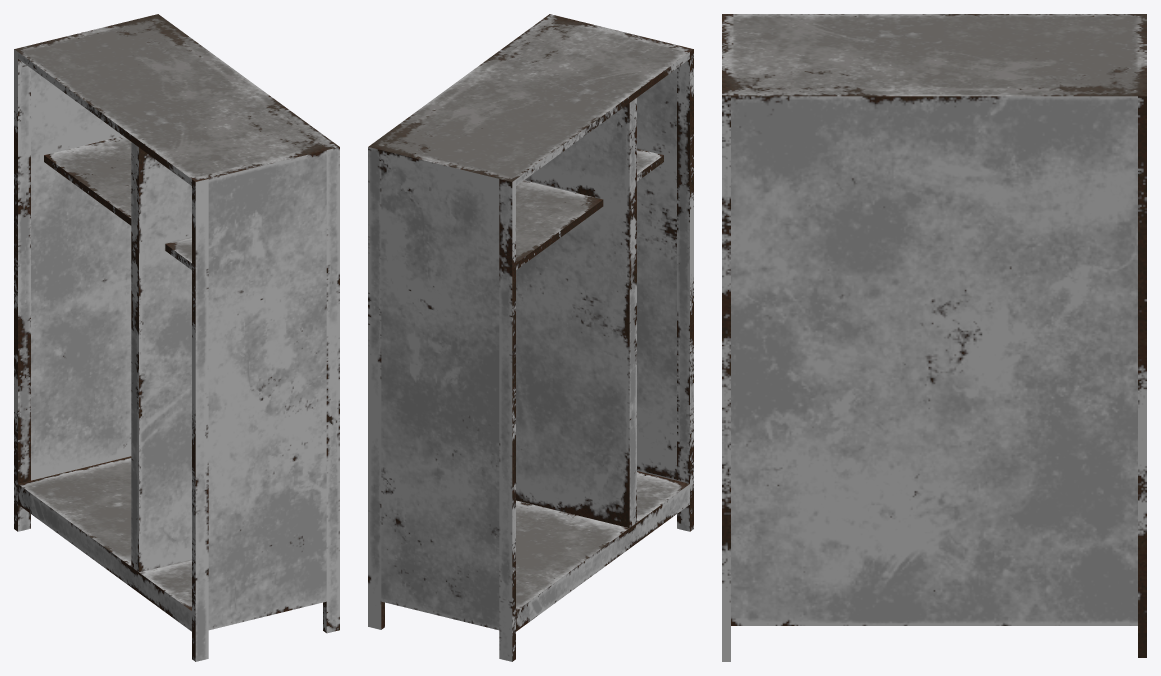
3 views of the same model, side by side, from view 1: azimuth 30°, elevation 25°; view 2: azimuth 150°, elevation 25°; view 3: azimuth 270°, elevation 25° (orthographic). The views are drawn at different scales.
Parts seen in each view (by area): view 1: Body_dev_3; view 2: Body_dev_3; view 3: Body_dev_3.
Boxes of the visible parts, x1,y1,x2,y2 form: Body_dev_3: [14, 14, 339, 661]; Body_dev_3: [368, 14, 693, 661]; Body_dev_3: [722, 14, 1146, 661].
Size of the model in its own units: 8.68 by 27.81 by 18.93.
1 material, 1 textured.
